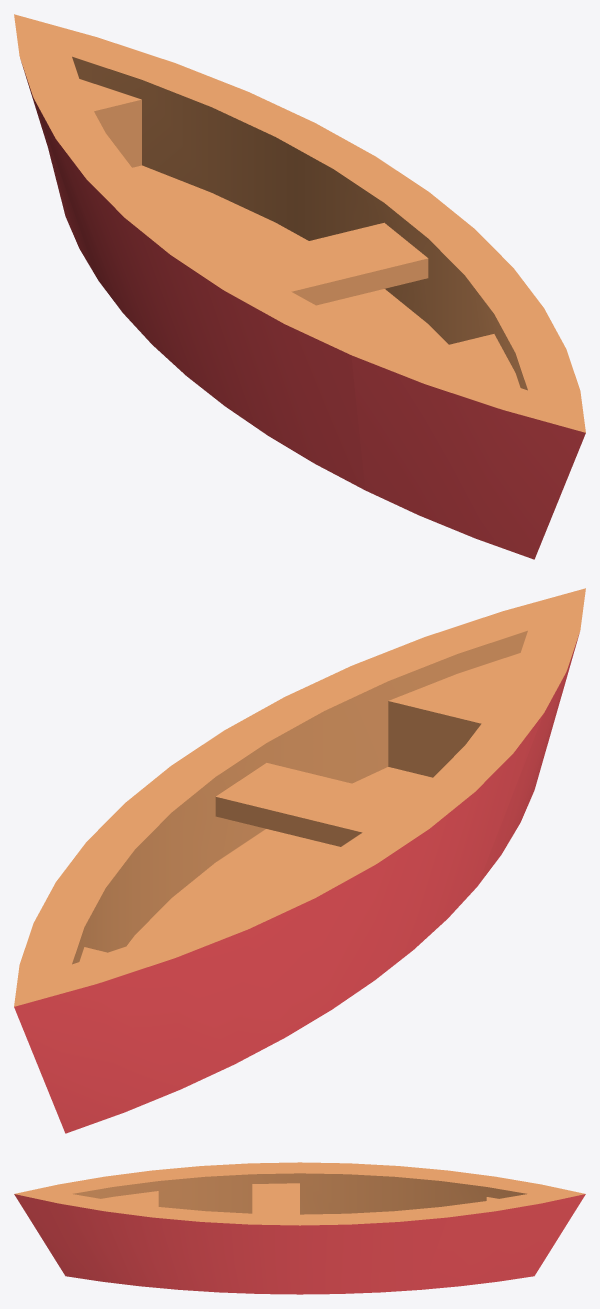
The model's file is canoe.obj.
The picture shows the model from 3 angles, top to bottom: view 1: azimuth 30°, elevation 25°; view 2: azimuth 150°, elevation 25°; view 3: azimuth 270°, elevation 25°; orthographic projection. The views are drawn at different scales.
Parts seen in each view (by area): view 1: canoe; view 2: canoe; view 3: canoe.
Boxes of the visible parts, left/top/right/bottom form: canoe: left=14, top=14, right=585, bottom=559; canoe: left=14, top=588, right=585, bottom=1133; canoe: left=14, top=1162, right=585, bottom=1294.
Size of the model in its own units: 3 by 1.83 by 11.5.
